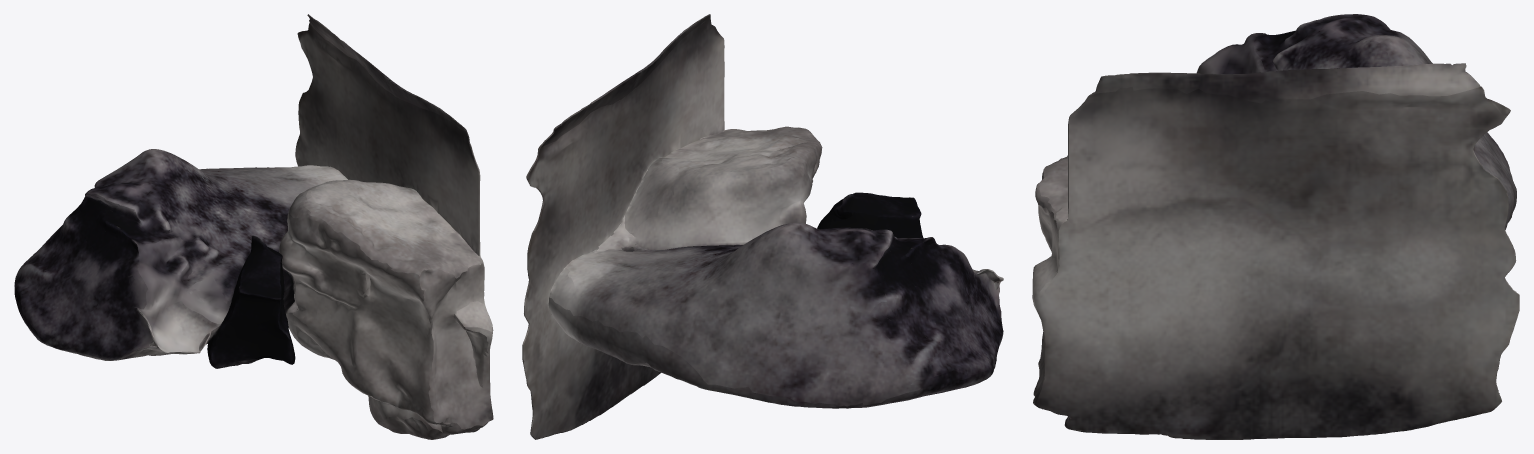
The picture shows the model from 3 angles, left to right: view 1: azimuth 30°, elevation 25°; view 2: azimuth 150°, elevation 25°; view 3: azimuth 270°, elevation 25°; orthographic projection. The views are drawn at different scales.
Parts seen in each view (by area): view 1: world; view 2: world; view 3: world.
Part boxes in pixels (bbox=[...]): world: bbox=[14, 14, 493, 439]; world: bbox=[522, 14, 1003, 439]; world: bbox=[1032, 14, 1519, 439].
Size of the model in its own units: 1.2 by 1.02 by 1.21.
1 material, 1 textured.
